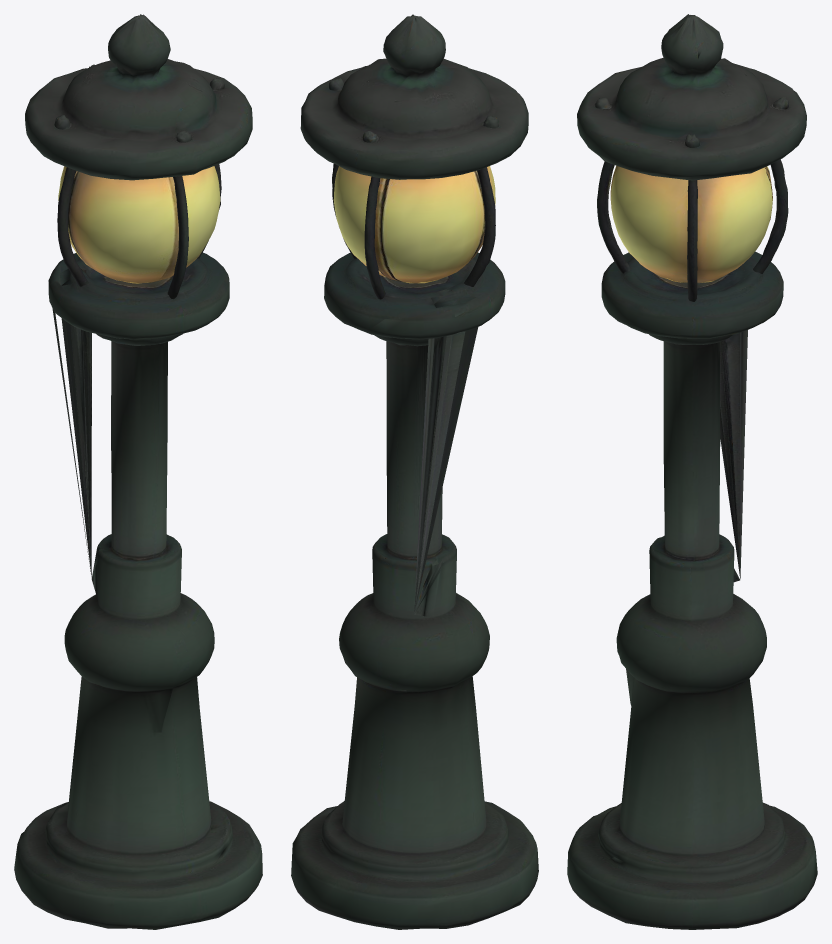
Rendered from la_farola.glb.
3 renders of one model, left to right at view 1: azimuth 30°, elevation 25°; view 2: azimuth 150°, elevation 25°; view 3: azimuth 270°, elevation 25°, orthographic.
Bounding box in the file's own units: 0.2617 × 1 × 0.2627.
Materials: 1 (1 with a texture image).
